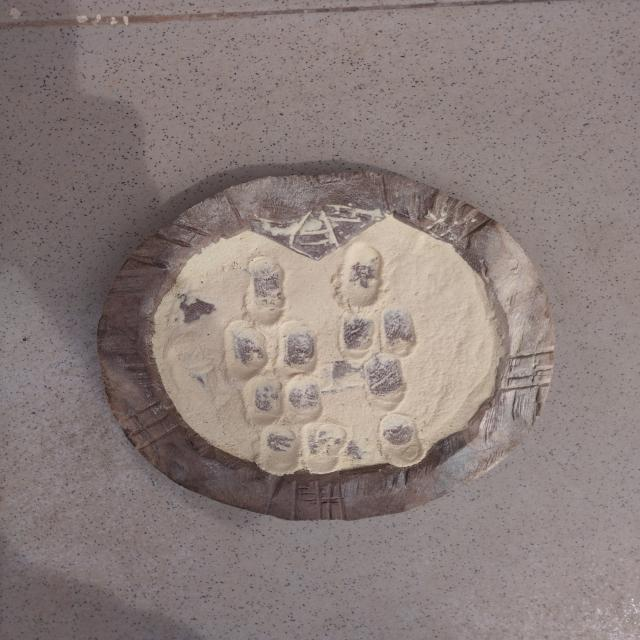double: (215, 323, 322, 376), (262, 428, 350, 476), (238, 379, 326, 427), (336, 311, 422, 357)
single: (236, 256, 292, 323), (335, 242, 388, 308), (373, 410, 429, 468), (363, 357, 403, 408)
